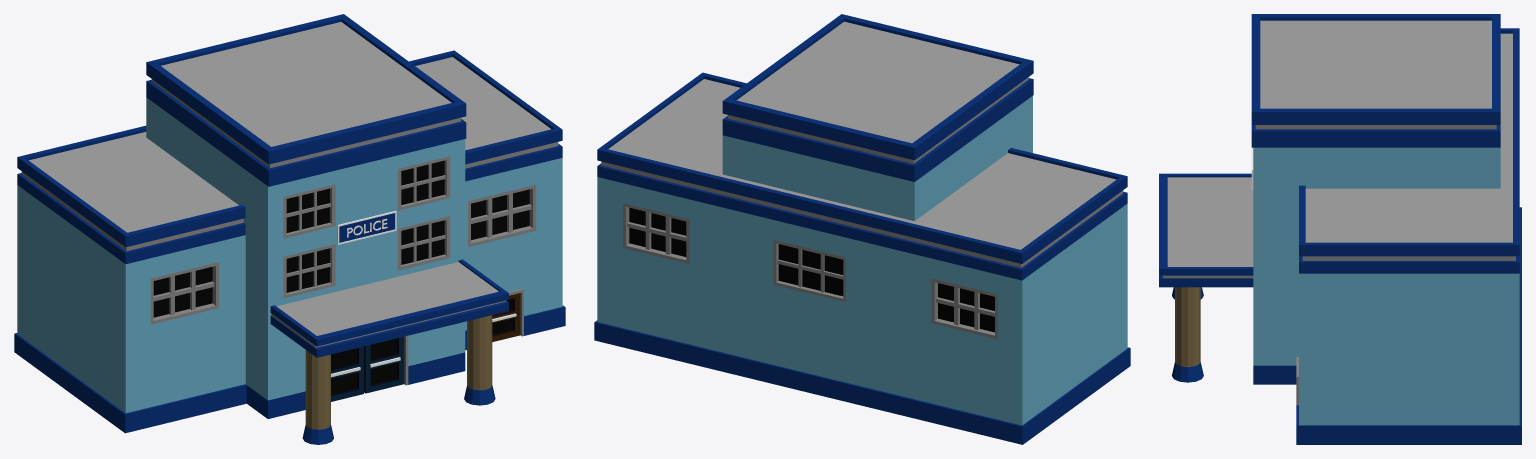
File: Police-2.fbx
3 views of the same model, side by side, from view 1: azimuth 30°, elevation 25°; view 2: azimuth 150°, elevation 25°; view 3: azimuth 270°, elevation 25° (orthographic). The views are drawn at different scales.
Visible parts, largest first — view 1: Cube; view 2: Cube; view 3: Cube.
Part boxes in pixels (x1,y1,x2,y2): Cube: (14, 14, 565, 444); Cube: (594, 14, 1130, 444); Cube: (1159, 14, 1521, 444).
Size of what is drawn, in the model's own units: 24.74 by 14.39 by 17.35.
